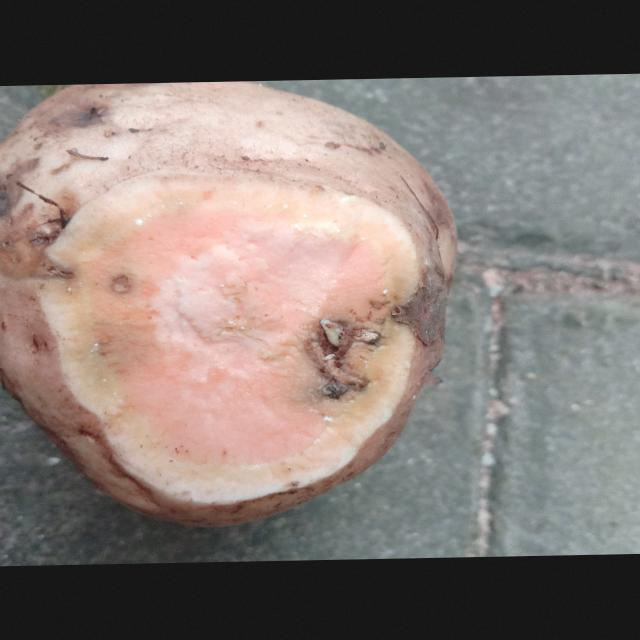Sick Sweet Potato_Tuber Rot: (38, 174, 420, 504)
